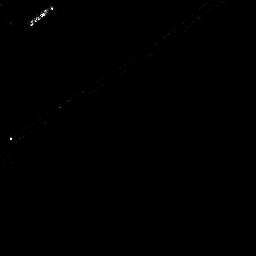ship: (27, 5, 55, 28)
